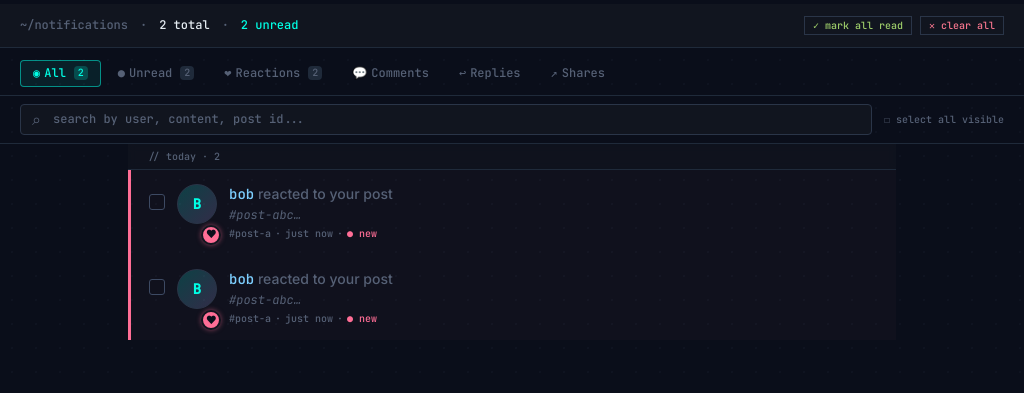
it: NotificationsPage (T-352, FR-14.7-.13) › T-352: checkbox select shows bulk action bar
This screenshot has width=1024, height=393.
Step 1. Click the 1st button with test id "notif-row-checkbox" → [157, 202], box [149,194,165,210]
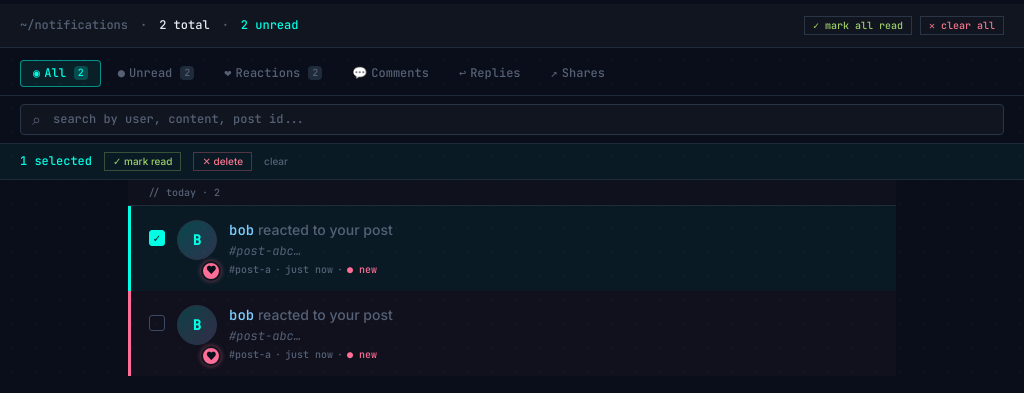
Expected: the element with test id "bulk-action-bar" shows "1 selected", [0,144,1023,180]
